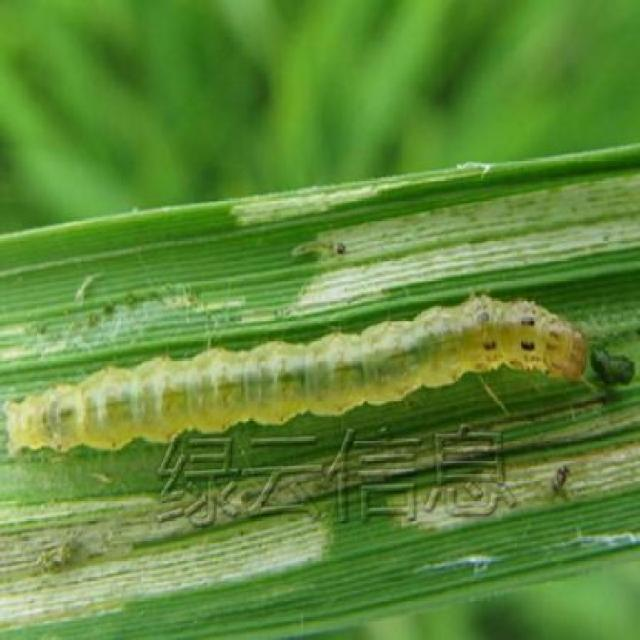leaf-folder: (17, 293, 609, 462), (283, 227, 360, 271)
